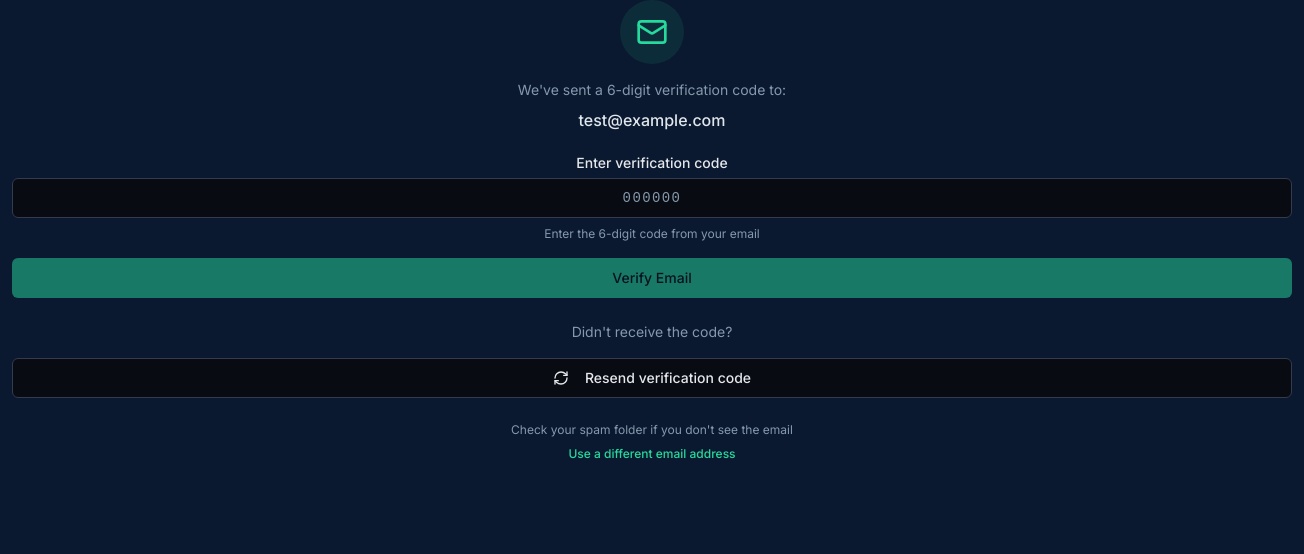
Scenario: EmailVerificationForm › Error Handling › should handle network errors gracefully (Requirement 10.2)
Type "123456" into the field labelled "Enter verification code" at (652, 198), box [12, 178, 1292, 218]
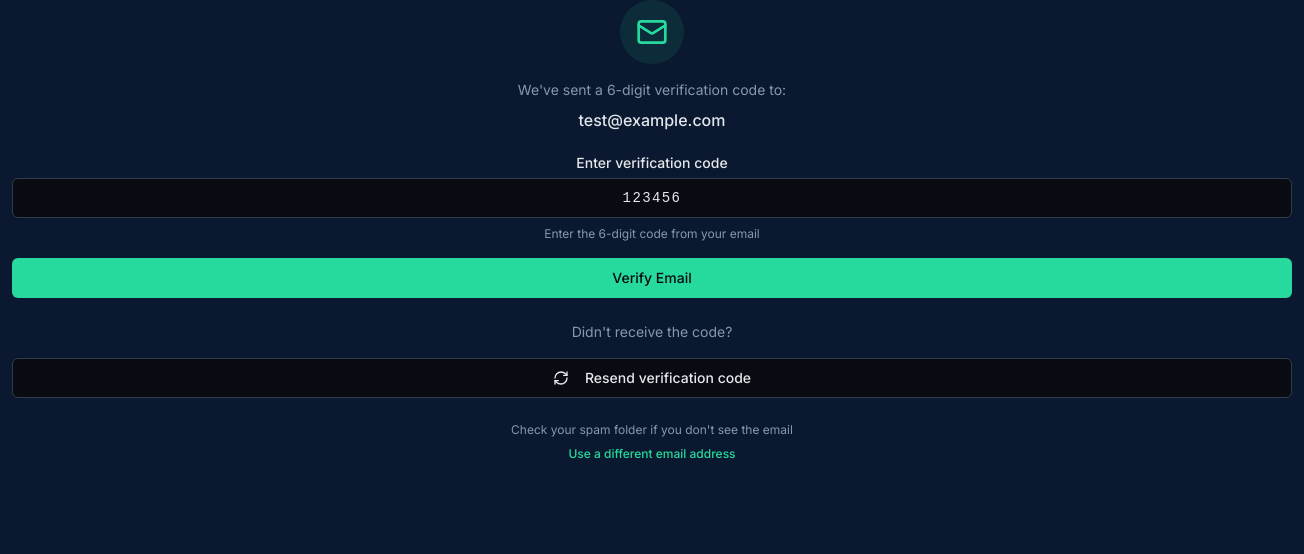
Click the button "Verify Email" at (652, 278), box [12, 258, 1292, 298]
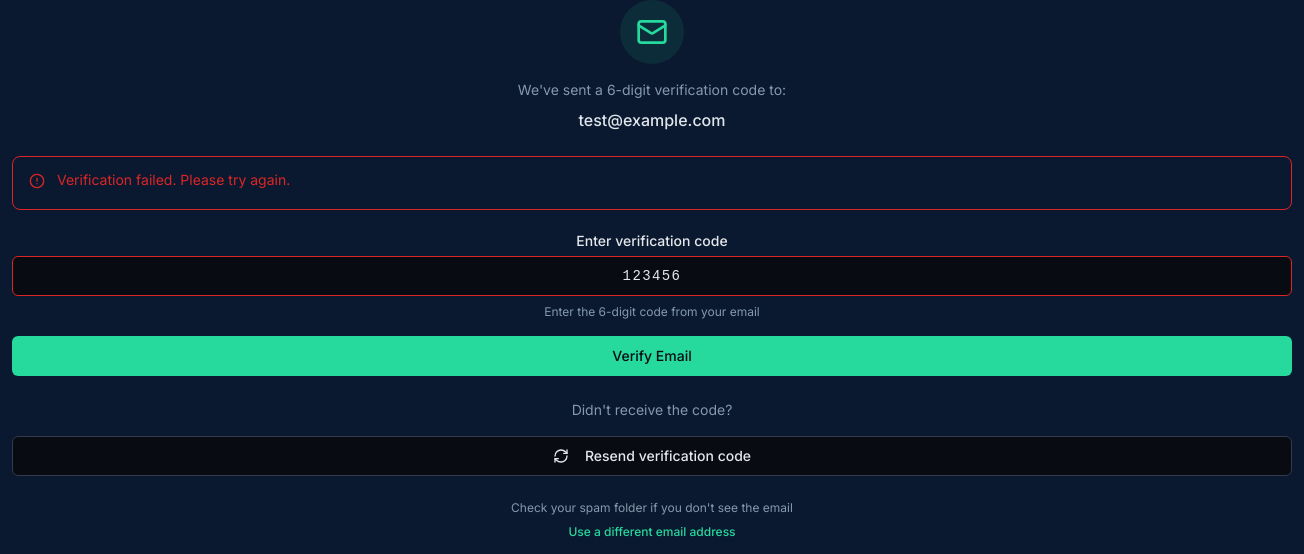
Expected: the button "Verify Email" is enabled, [12, 336, 1292, 376]
Expected: the text "Verification failed. Please try again." is shown, [57, 171, 290, 188]
